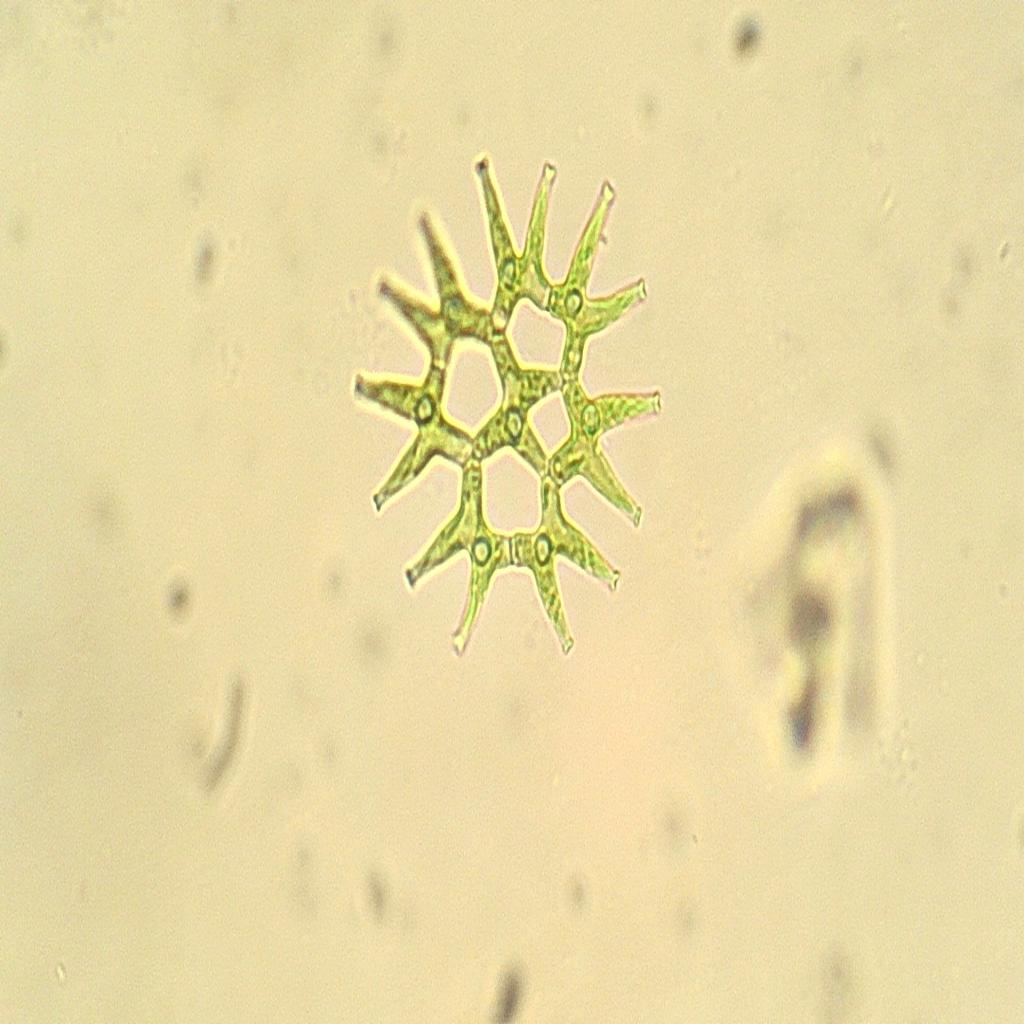Pediastrum_75T: (348, 118, 671, 672)
